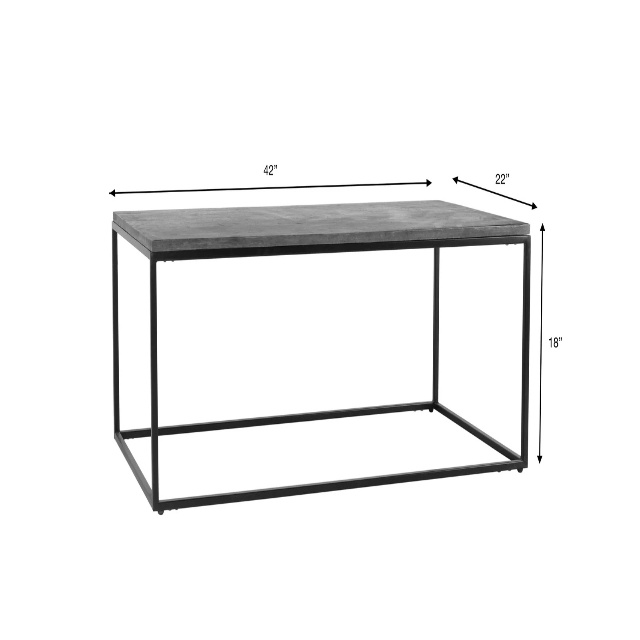obstacle: (112, 201, 530, 513)
